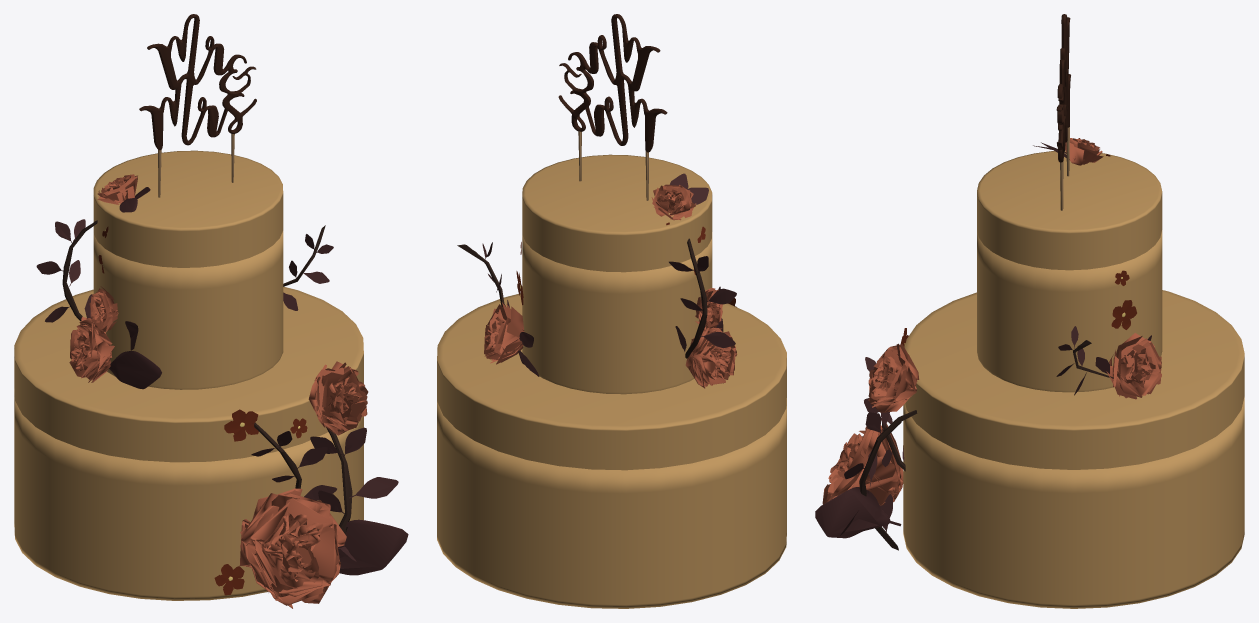
Rendered from 2-tier-caramel-roses-mrms.glb.
The picture shows the model from 3 angles, left to right: view 1: azimuth 30°, elevation 25°; view 2: azimuth 150°, elevation 25°; view 3: azimuth 270°, elevation 25°; orthographic projection.
Parts seen in each view (by area): view 1: Cylinder.023, Cylinder.013, grid.025, mrms, grid.024, Plane.049, Plane.059, grid.026, Plane.056, Plane.058, Plane.052, Plane.045 (+4 smaller); view 2: Cylinder.023, Cylinder.013, mrms, grid.026, Plane.056, grid.028, grid.014, grid.027, Plane.045; view 3: Cylinder.023, Cylinder.013, grid.025, grid.028, Plane.049, grid.024, mrms, Plane.059, Plane.045, grid.014, Plane.058.
Boxes of the visible parts, box(x1,y1,x2,y2) form: Cylinder.023: box(14, 287, 363, 600); Cylinder.013: box(93, 150, 283, 389); grid.025: box(239, 488, 346, 608); mrms: box(139, 14, 256, 197); grid.024: box(308, 361, 368, 435); Plane.049: box(338, 519, 408, 575); Plane.059: box(310, 427, 398, 561); grid.026: box(69, 316, 114, 382); Plane.056: box(36, 219, 97, 322); Plane.058: box(251, 423, 336, 500); Plane.052: box(109, 351, 161, 389); Plane.045: box(283, 225, 333, 310); Cylinder.023: box(437, 293, 786, 608); Cylinder.013: box(522, 154, 712, 394); mrms: box(558, 14, 667, 200); grid.026: box(685, 327, 737, 388); Plane.056: box(669, 238, 736, 358); grid.028: box(484, 302, 524, 364); grid.014: box(651, 184, 696, 220); grid.027: box(695, 288, 722, 332); Plane.045: box(457, 242, 509, 307); Cylinder.023: box(903, 290, 1244, 608); Cylinder.013: box(977, 150, 1162, 392); grid.025: box(822, 419, 903, 505); grid.028: box(1106, 333, 1161, 399); Plane.049: box(815, 487, 901, 538); grid.024: box(868, 343, 919, 412); mrms: box(1056, 14, 1070, 210); Plane.059: box(840, 410, 917, 550); Plane.045: box(1056, 326, 1113, 395); grid.014: box(1065, 138, 1103, 165); Plane.058: box(864, 357, 905, 471).
Size of the model in its own units: 3.4 by 5.61 by 4.11.
